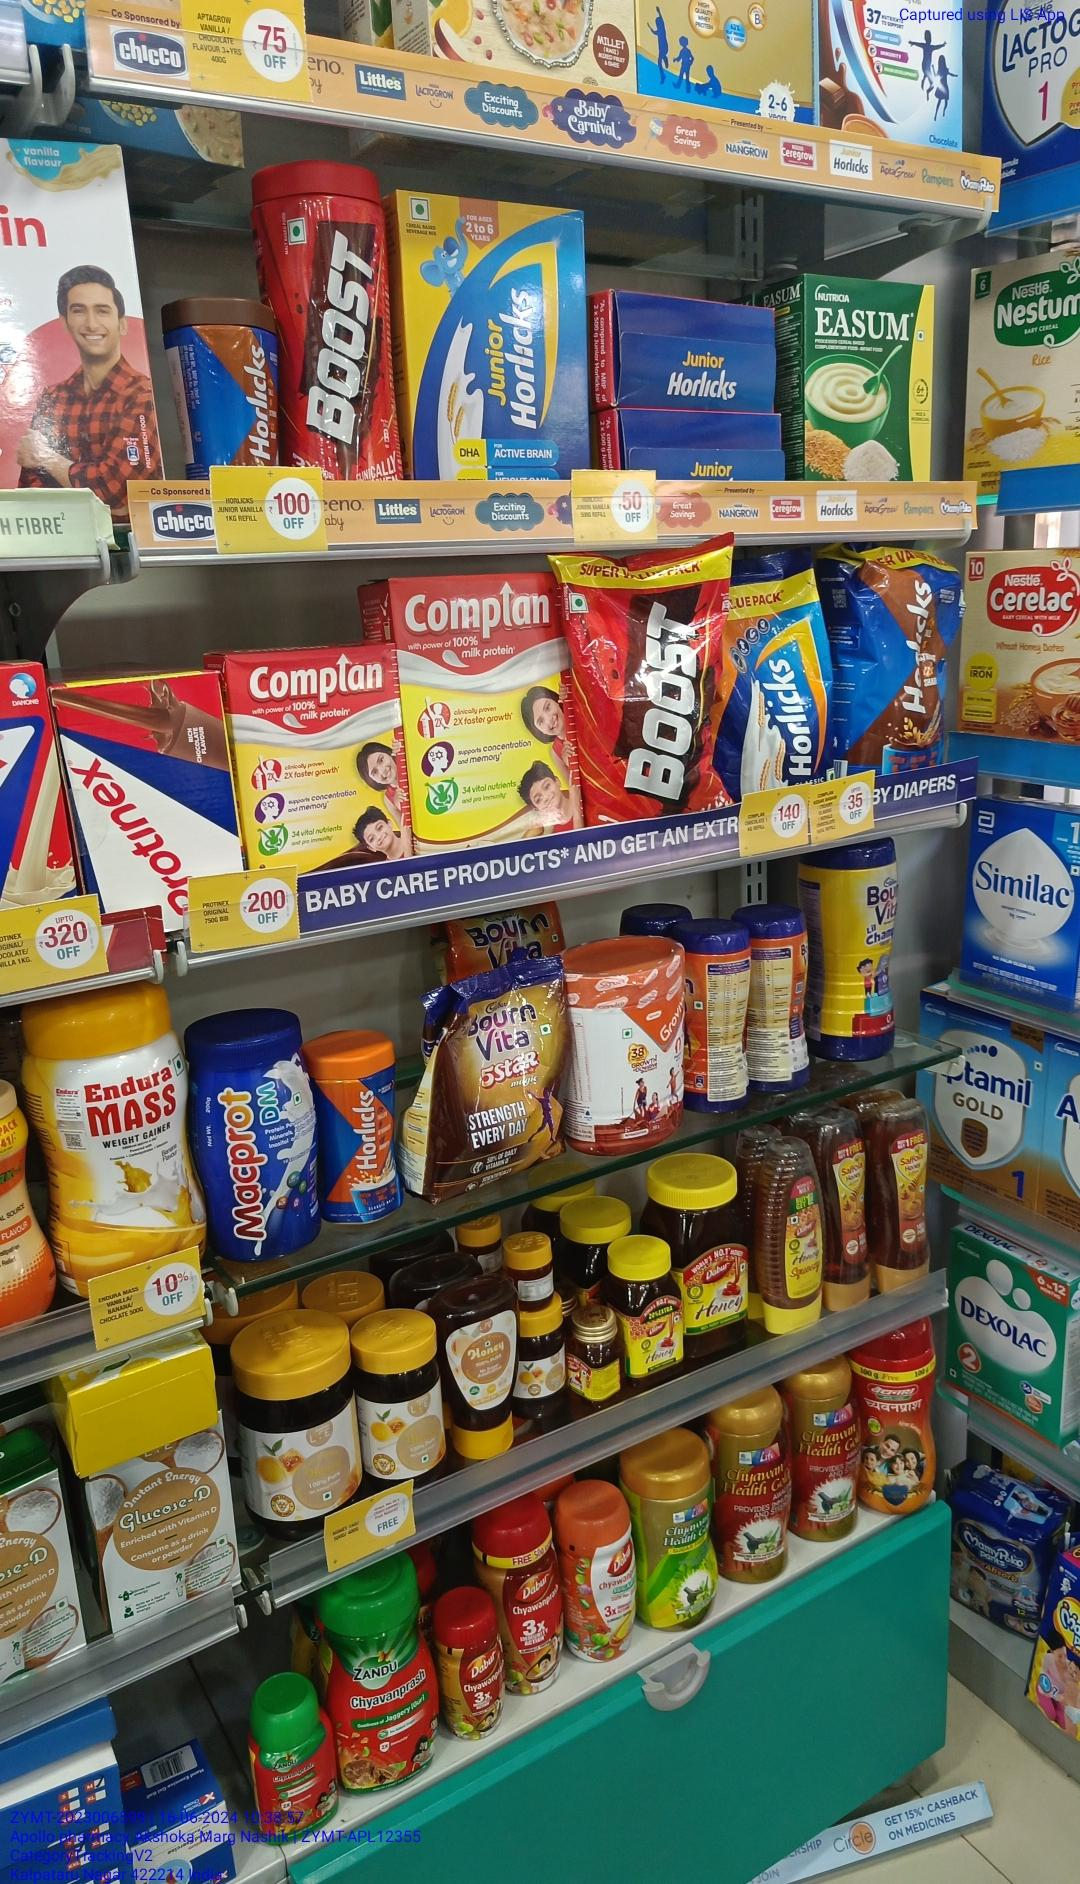HORLICK_CLASSIC_MALT_750_G_POUCH: (726, 569, 836, 811)
